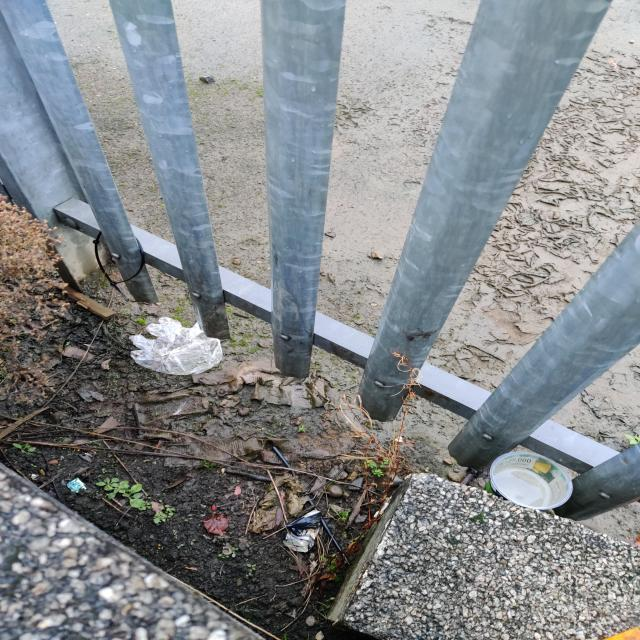litter: (129, 316, 224, 376)
